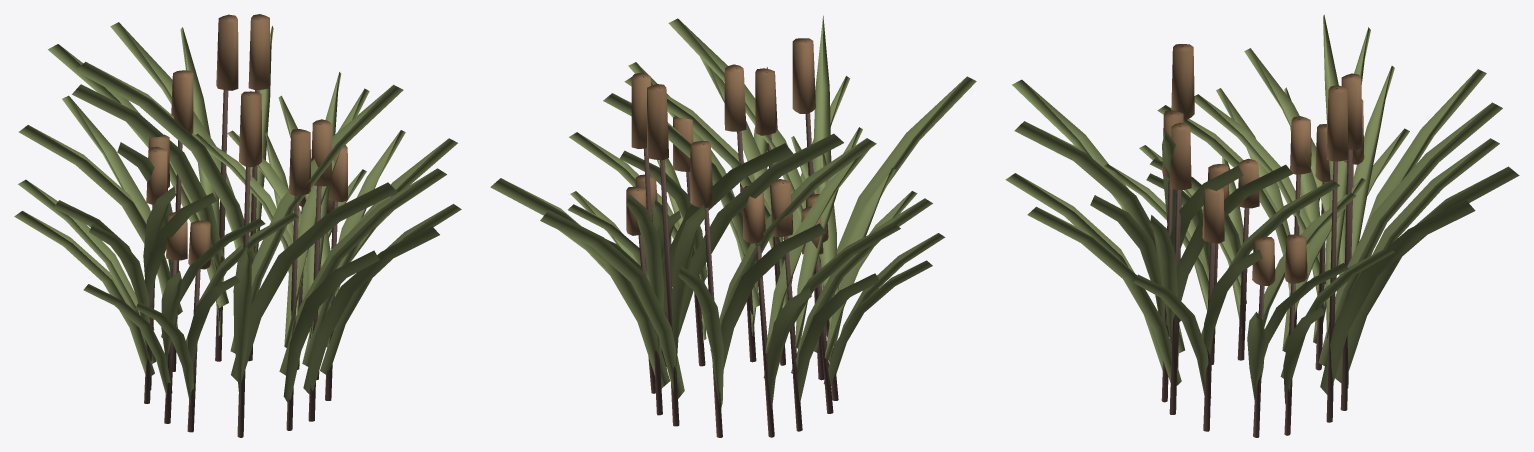
File: cattail.glb
3 renders of one model, left to right at view 1: azimuth 30°, elevation 25°; view 2: azimuth 150°, elevation 25°; view 3: azimuth 270°, elevation 25°, orthographic.
Parts seen in each view (by area): view 1: GEO-Arching reed blades, GEO-Cattail seed heads; view 2: GEO-Arching reed blades, GEO-Cattail seed heads; view 3: GEO-Arching reed blades, GEO-Cattail seed heads.
Part boxes in pixels (<box>): GEO-Arching reed blades: <box>14,18,461,437</box>; GEO-Cattail seed heads: <box>146,14,347,269</box>; GEO-Arching reed blades: <box>490,15,976,437</box>; GEO-Cattail seed heads: <box>626,38,828,254</box>; GEO-Arching reed blades: <box>1005,14,1519,437</box>; GEO-Cattail seed heads: <box>1162,44,1364,285</box>.
Bounding box in the file's own units: 1.57 × 1.42 × 1.95.
